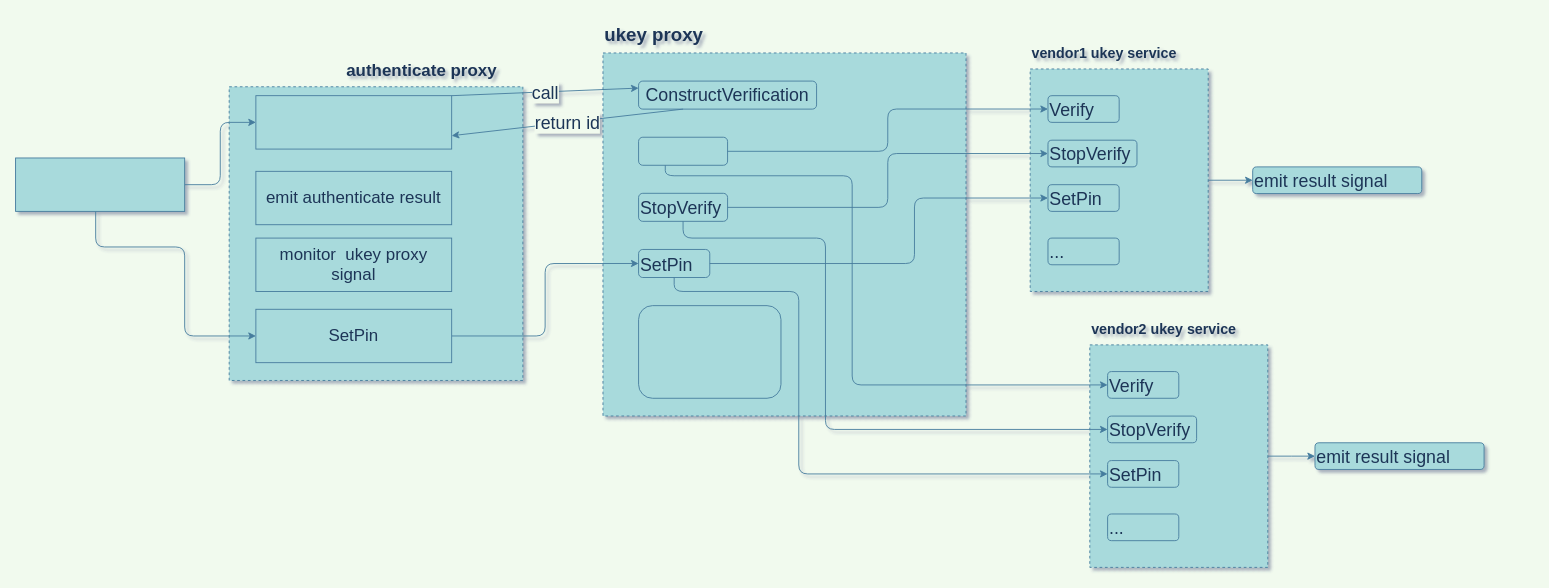
Some shapes in this 1549 by 588 pixel diagram are drawn without their labels. Here are the shapes that lost their labels. From the top down, the centre of each, then its label:
[353,122]: Authenticate
[683,150]: StartVerify
[100,184]: Authenticate pam
[709,351]: monitor ukey service result signal and emit ukey proxy signal
